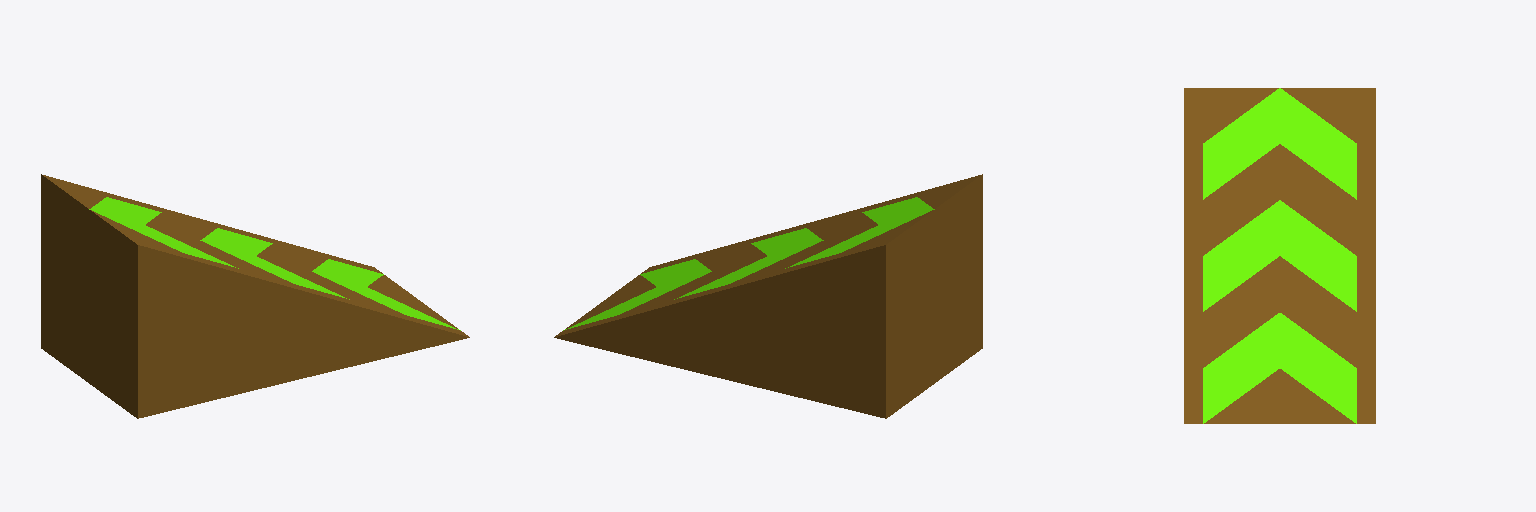
File: Prop_Track_Ramp_Speed_Boost.obj
The picture shows the model from 3 angles: view 1: azimuth 30°, elevation 25°; view 2: azimuth 150°, elevation 25°; view 3: azimuth 270°, elevation 25°; orthographic projection.
Parts seen in each view (by area): view 1: object1; view 2: object1; view 3: object1.
Boxes of the visible parts, x1=… form: object1: x1=41, y1=174, x2=469, y2=418; object1: x1=554, y1=174, x2=982, y2=418; object1: x1=1184, y1=88, x2=1375, y2=423.
Size of the model in its own units: 2 by 1 by 1.